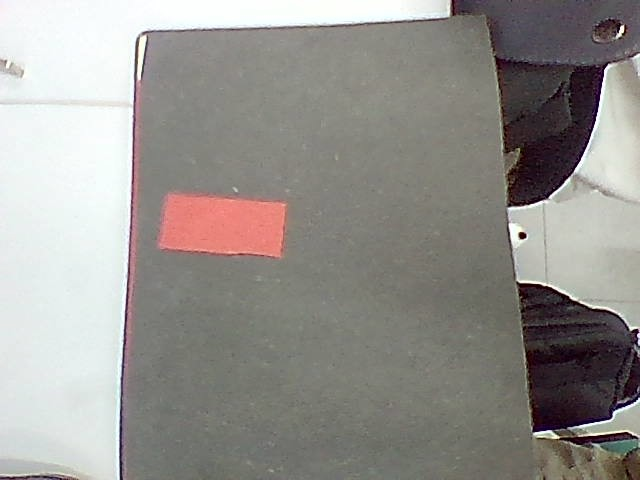card: (157, 192, 287, 258)
